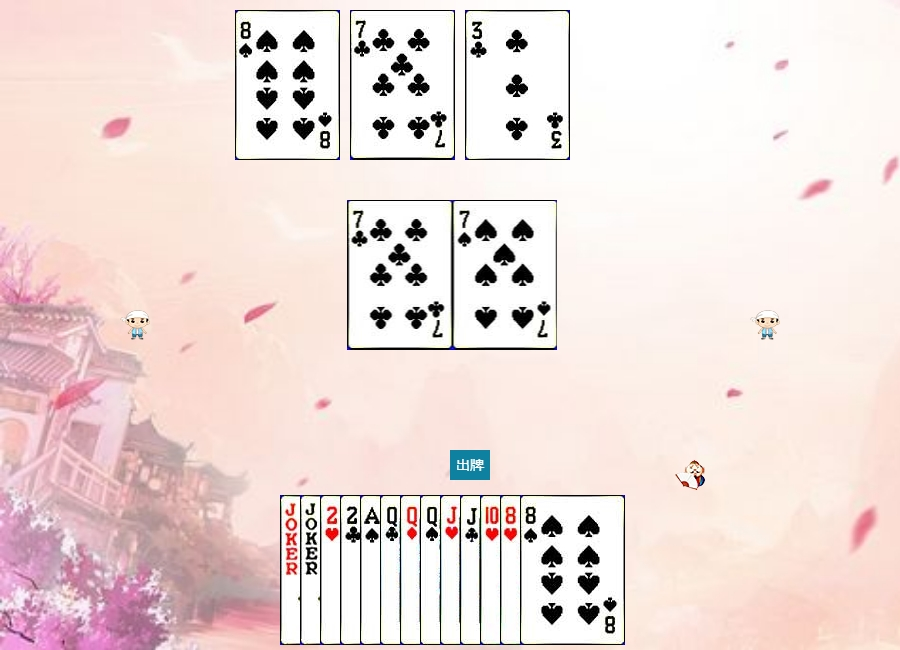10~3: (480, 495, 585, 645)
11~2: (460, 495, 565, 645)
11~3: (440, 495, 545, 645)
12~1: (400, 495, 505, 645)
12~2: (380, 495, 485, 645)
12~4: (420, 495, 525, 645)
14~4: (360, 495, 465, 645)
15~2: (340, 495, 445, 645)
15~3: (320, 495, 425, 645)
17~3: (300, 495, 405, 645)
18~4: (280, 495, 385, 645)
3~2: (465, 10, 570, 160)
7~2: (350, 10, 455, 160), (348, 200, 453, 350)
7~4: (453, 200, 558, 350)
8~3: (500, 495, 605, 645)
8~4: (235, 10, 340, 160), (520, 495, 625, 645)
